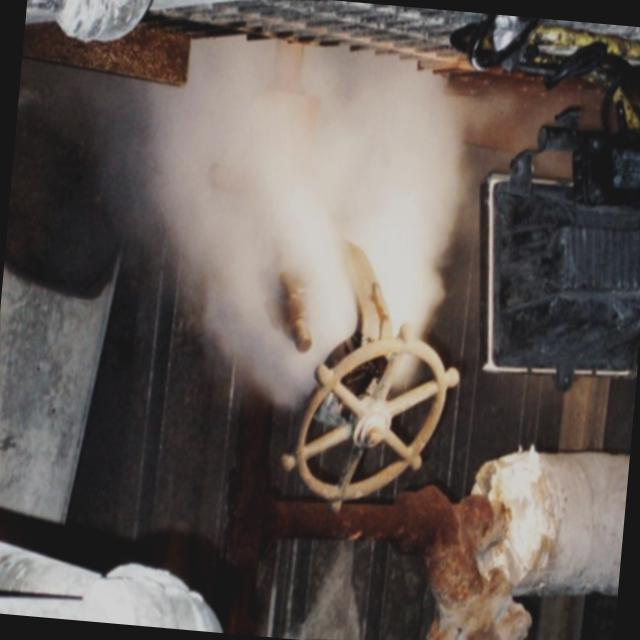smoke: (173, 60, 440, 343)
